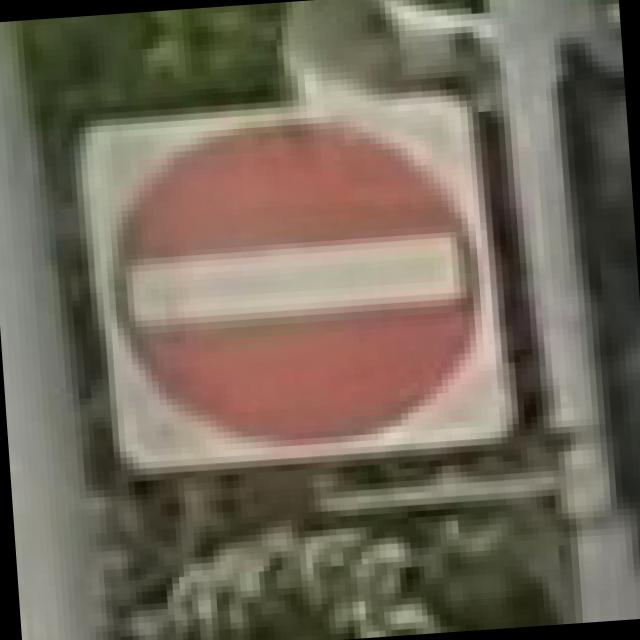noentry_sign: (64, 80, 520, 478)
